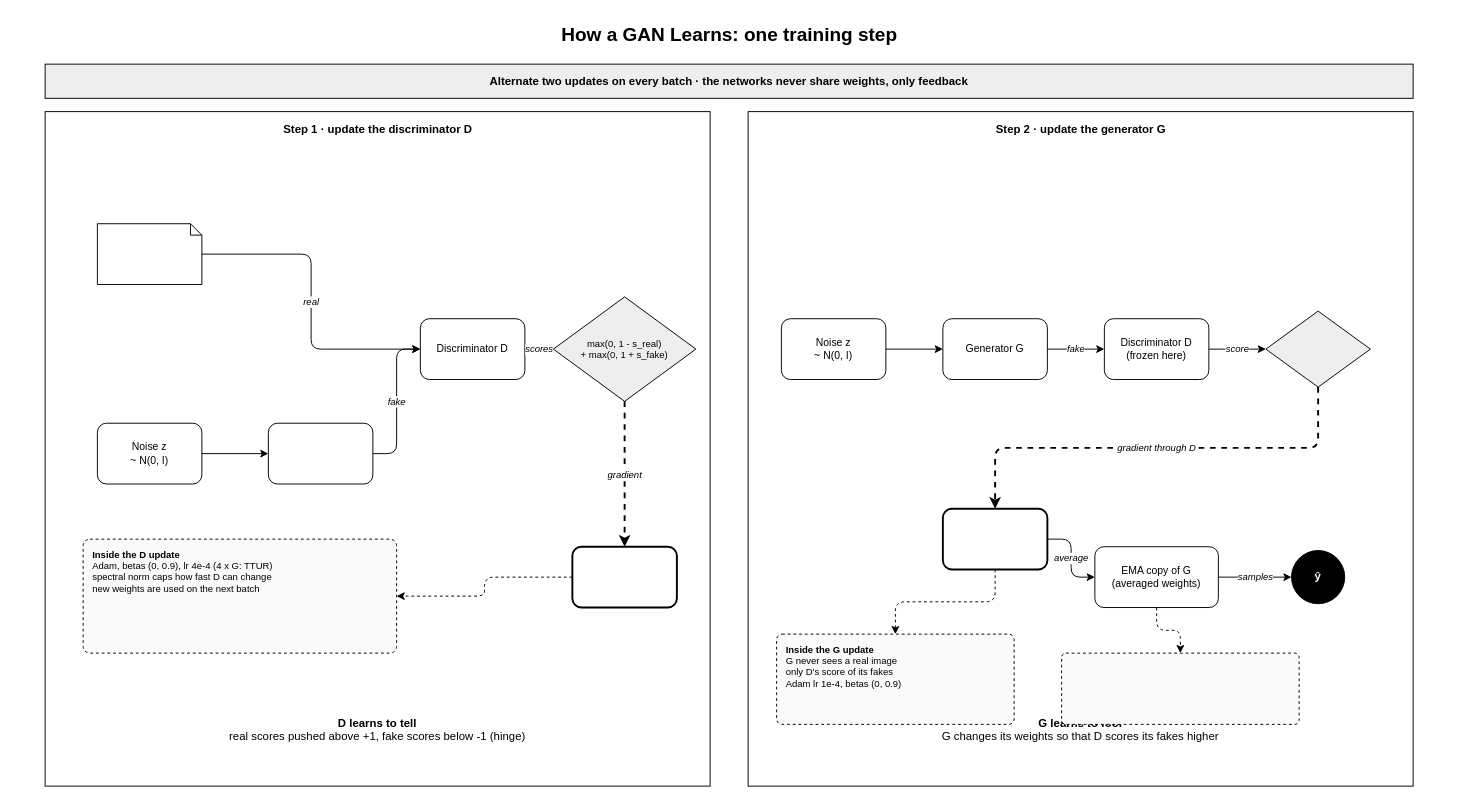
Image size: 1457x803. Some labels were removed from this diagram. Each missing label, with the centre of its shape:
"- s_fake" belongs at (1317,348).
"EMA, decay 0.999 w_ema = 0.999 w_ema + 0.001 w smoother samples, used for FID" belongs at (1180,688).
"Generator G (frozen here)" belongs at (320,453).
"Real thumbnails" belongs at (149,254).
"update D (lr 4e-4)" belongs at (624,576).
"update G (lr 1e-4)" belongs at (994,538).
